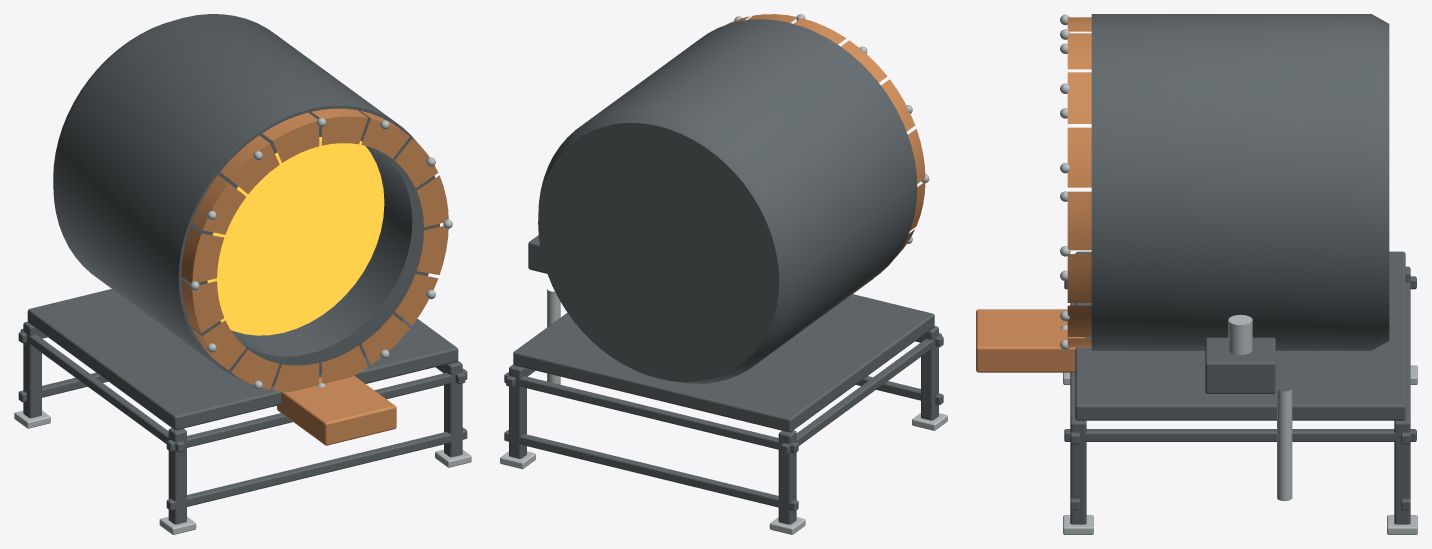
File: glassblowing-studio-and-gallery-melting-furnace-3d9df309__29583.glb
3 renders of one model, left to right at view 1: azimuth 30°, elevation 25°; view 2: azimuth 150°, elevation 25°; view 3: azimuth 270°, elevation 25°, orthographic. The views are drawn at different scales.
Visible parts, largest first — view 1: melting-furnace; view 2: melting-furnace; view 3: melting-furnace.
Part boxes in pixels (<box>): melting-furnace: <box>14,14,471,534</box>; melting-furnace: <box>500,14,947,534</box>; melting-furnace: <box>976,14,1417,534</box>.
Size of the model in its own units: 1.95 by 2.12 by 2.01.
